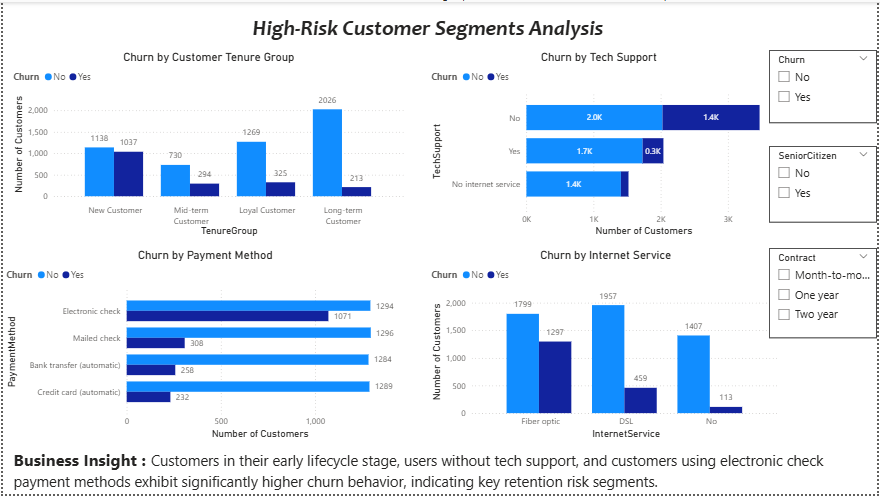

Layout of this report page (visuals, bound fields, positions):
{"tool":"powerbi","page":{"name":"High-Risk Customer Segments","canvas":[1280,720],"ordinal":1},"visuals":[{"type":"clusteredColumnChart","title":"Churn by Customer Tenure Group","fields":{"Category":["Cleaned_Telco_Customer_Churn.TenureGroup"],"Y":["CountNonNull(Cleaned_Telco_Customer_Churn.CoustomerID)"],"Series":["Cleaned_Telco_Customer_Churn.Churn"]},"box":[10,70,581.7,278.3],"z":0},{"type":"barChart","title":"Churn by Tech Support","fields":{"Category":["Cleaned_Telco_Customer_Churn.TechSupport"],"Y":["CountNonNull(Cleaned_Telco_Customer_Churn.CoustomerID)"],"Series":["Cleaned_Telco_Customer_Churn.Churn"]},"box":[621.7,70,500,278.3],"z":1000},{"type":"clusteredBarChart","title":"Churn by Payment Method","fields":{"Category":["Cleaned_Telco_Customer_Churn.PaymentMethod"],"Y":["CountNonNull(Cleaned_Telco_Customer_Churn.CoustomerID)"],"Series":["Cleaned_Telco_Customer_Churn.Churn"]},"box":[0,360,591.7,285],"z":2000},{"type":"clusteredColumnChart","title":"Churn by Internet Service","fields":{"Category":["Cleaned_Telco_Customer_Churn.InternetService"],"Series":["Cleaned_Telco_Customer_Churn.Churn"],"Y":["CountNonNull(Cleaned_Telco_Customer_Churn.CoustomerID)"]},"box":[621.7,360,520,285],"z":3000},{"type":"textbox","box":[100.8,13.4,1041.5,57.1],"z":4000},{"type":"textbox","box":[10.1,645,1269.9,75.6],"z":5000},{"type":"slicer","fields":{"Values":["Cleaned_Telco_Customer_Churn.Contract"]},"box":[1121.7,360,158.3,131.7],"z":6000},{"type":"slicer","fields":{"Values":["Cleaned_Telco_Customer_Churn.SeniorCitizen"]},"box":[1121.7,210,158.3,111.7],"z":7000},{"type":"slicer","fields":{"Values":["Cleaned_Telco_Customer_Churn.Churn"]},"box":[1121.7,70,158.3,106.7],"z":8000}]}

Visuals, with their boxes in screenshot pixels (x1, y1, x2, y2), scaled from the page's 1280x720 canvas onto the 880x497 screenshot:
"Churn by Customer Tenure Group" clusteredColumnChart: (7, 48, 407, 240)
"Churn by Tech Support" barChart: (427, 48, 771, 240)
"Churn by Payment Method" clusteredBarChart: (0, 248, 407, 445)
"Churn by Internet Service" clusteredColumnChart: (427, 248, 785, 445)
textbox: (69, 9, 785, 49)
textbox: (7, 445, 879, 496)
slicer - Cleaned_Telco_Customer_Churn.Contract: (771, 248, 879, 339)
slicer - Cleaned_Telco_Customer_Churn.SeniorCitizen: (771, 145, 879, 222)
slicer - Cleaned_Telco_Customer_Churn.Churn: (771, 48, 879, 122)
